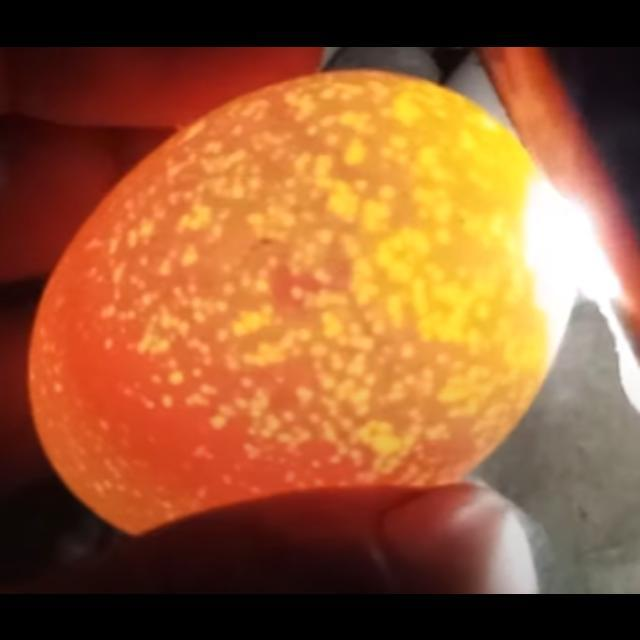Fertile: (28, 65, 586, 541)
